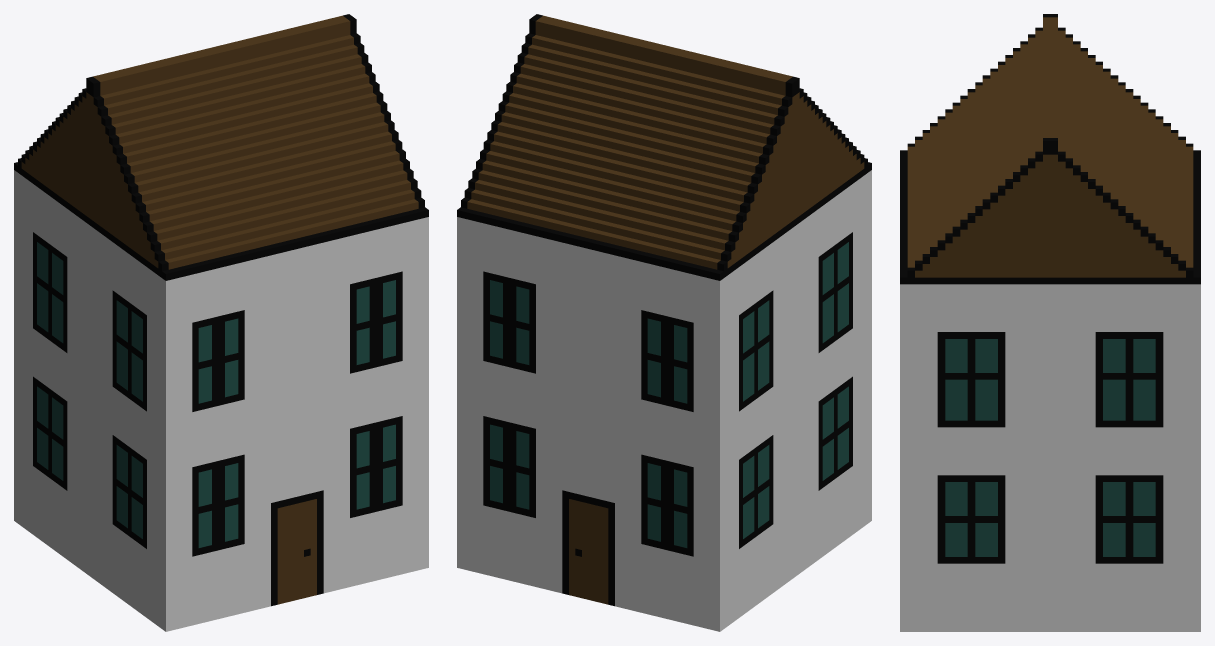
File: house.obj
3 views of the same model, side by side, from view 1: azimuth 30°, elevation 25°; view 2: azimuth 150°, elevation 25°; view 3: azimuth 270°, elevation 25° (orthographic).
Bounding box in the file's own units: 4 × 7.2 × 4.
1 material, 1 textured.
